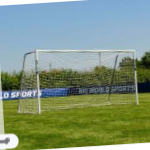goals: (15, 47, 141, 115)
